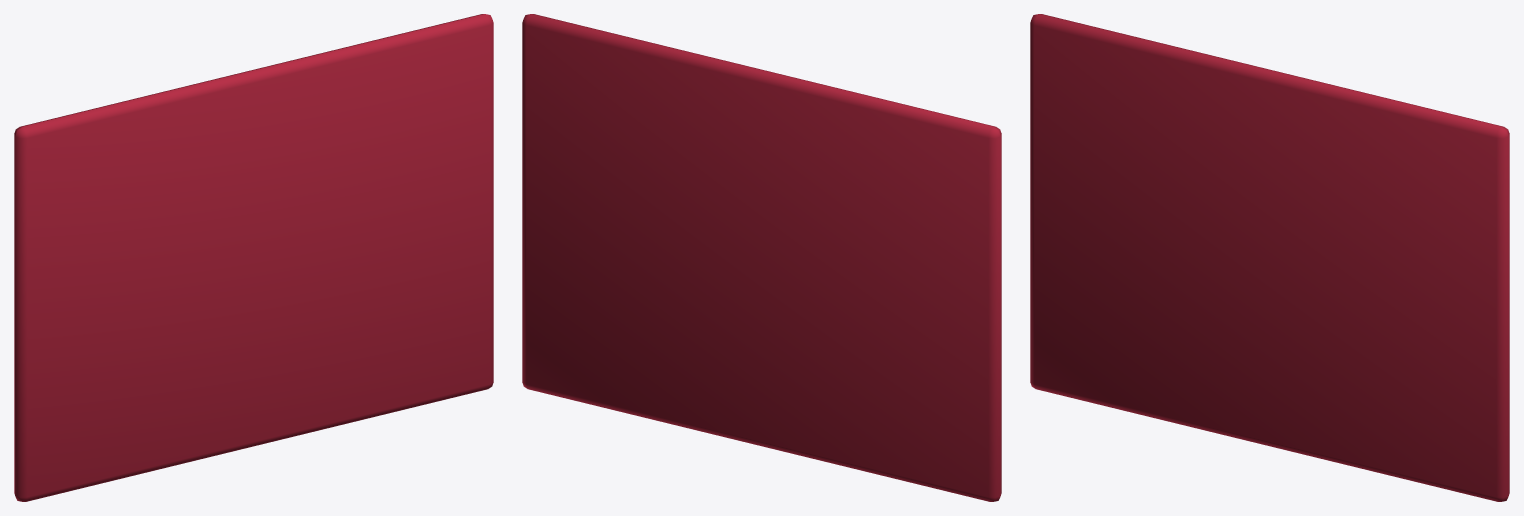
File: GEO_SUV_Tailgate_Hatch.glb
3 views of the same model, side by side, from view 1: azimuth 30°, elevation 25°; view 2: azimuth 150°, elevation 25°; view 3: azimuth 330°, elevation 25° (orthographic).
Visible parts, largest first — view 1: GEO_SUV_Tailgate_Hatch; view 2: GEO_SUV_Tailgate_Hatch; view 3: GEO_SUV_Tailgate_Hatch.
Boxes of the visible parts, bbox=[...] form: GEO_SUV_Tailgate_Hatch: bbox=[14, 14, 493, 501]; GEO_SUV_Tailgate_Hatch: bbox=[522, 14, 1001, 501]; GEO_SUV_Tailgate_Hatch: bbox=[1030, 14, 1509, 501].
Bounding box in the file's own units: 1.52 × 1.14 × 0.05.
